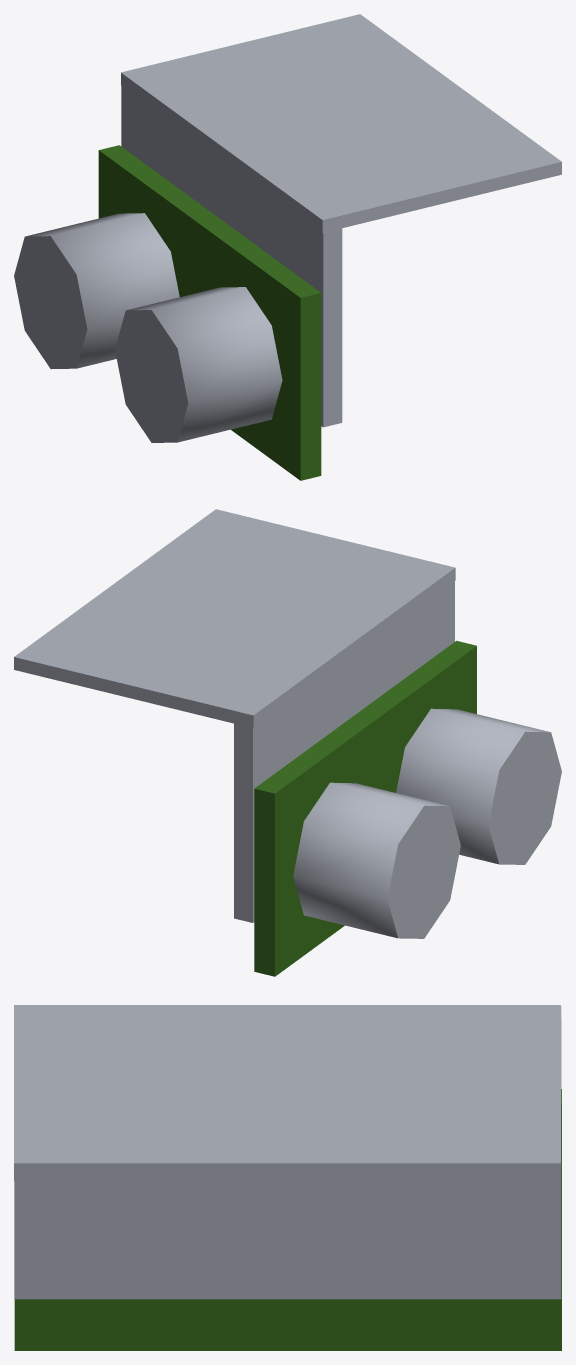
File: sonar_new.dae
3 views of the same model, one above another, from view 1: azimuth 30°, elevation 25°; view 2: azimuth 150°, elevation 25°; view 3: azimuth 270°, elevation 25° (orthographic). The views are drawn at different scales.
Visible parts, largest first — view 1: Plane_003; view 2: Plane_003; view 3: Plane_003.
Part boxes in pixels (x1,y1,x2,y2): Plane_003: [14, 14, 561, 480]; Plane_003: [14, 509, 561, 976]; Plane_003: [14, 1005, 561, 1350].
Bounding box in the file's own units: 0.0453 × 0.044 × 0.0307.
